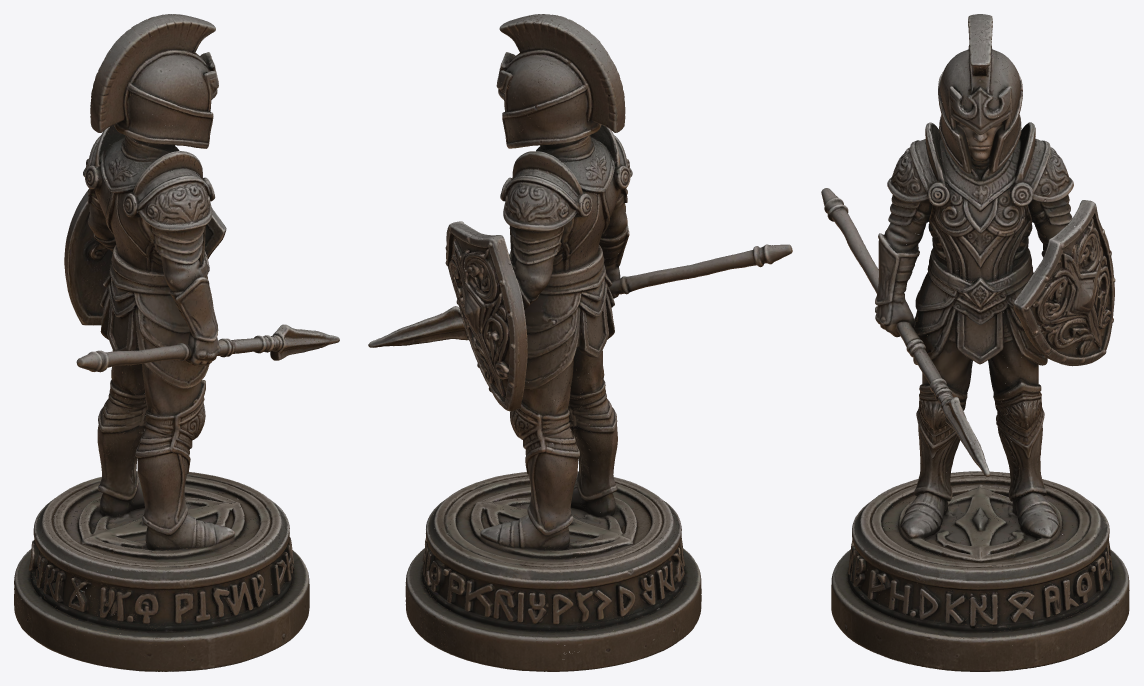
File: pawn.glb
3 renders of one model, left to right at view 1: azimuth 30°, elevation 25°; view 2: azimuth 150°, elevation 25°; view 3: azimuth 270°, elevation 25°, orthographic.
Visible parts, largest first — view 1: Object_7, Object_8, Object_9, Object_10, Object_6, Object_5, Object_4, Object_2, Object_3; view 2: Object_2, Object_5, Object_3, Object_4, Object_6, Object_7, Object_10, Object_9, Object_8; view 3: Object_9, Object_6, Object_5, Object_8, Object_3, Object_2, Object_7, Object_4, Object_10.
Boxes of the visible parts, <box> form: Object_7: <box>23,151,292,659</box>; Object_8: <box>75,145,309,671</box>; Object_9: <box>24,151,308,671</box>; Object_10: <box>32,14,339,637</box>; Object_6: <box>15,14,339,631</box>; Object_5: <box>15,14,301,635</box>; Object_4: <box>14,125,258,612</box>; Object_2: <box>15,190,240,609</box>; Object_3: <box>14,130,244,614</box>; Object_2: <box>405,221,636,671</box>; Object_5: <box>407,14,676,658</box>; Object_3: <box>405,135,644,668</box>; Object_4: <box>406,151,644,671</box>; Object_6: <box>368,16,683,658</box>; Object_7: <box>480,130,700,643</box>; Object_10: <box>368,14,687,628</box>; Object_9: <box>429,128,792,628</box>; Object_8: <box>463,125,792,613</box>; Object_9: <box>821,123,1032,671</box>; Object_6: <box>913,14,1061,669</box>; Object_5: <box>927,14,1123,671</box>; Object_8: <box>821,122,969,667</box>; Object_3: <box>979,134,1123,666</box>; Object_2: <box>985,200,1129,663</box>; Object_7: <box>849,128,994,608</box>; Object_4: <box>940,122,1118,662</box>; Object_10: <box>938,15,1048,667</box>.
Bounding box in the file's own units: 0.6056 × 1 × 0.473.
1 material, 1 textured.
